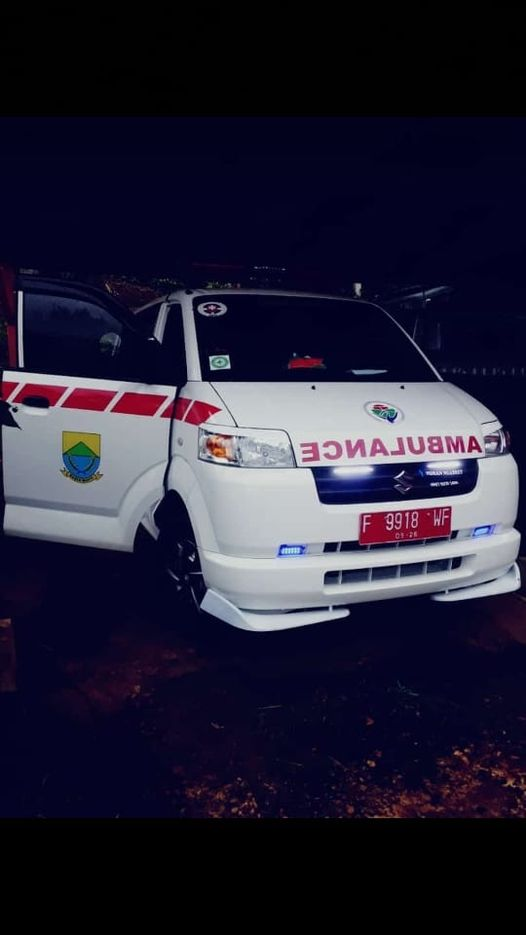plate: (352, 503, 457, 540)
